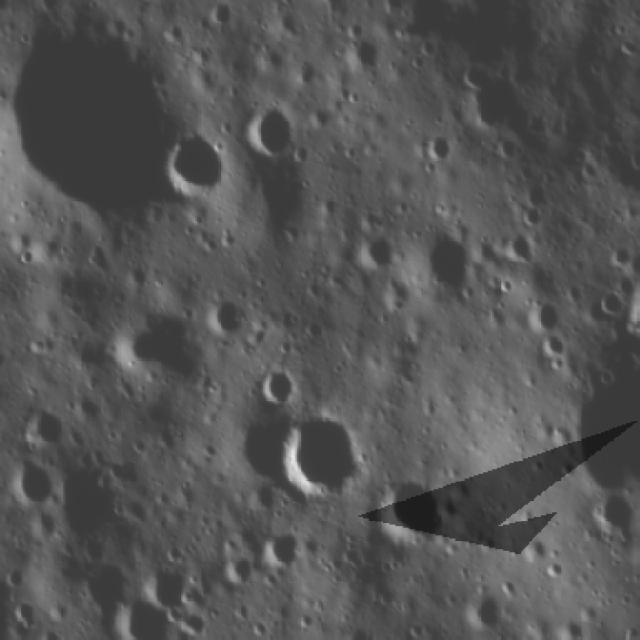crater: (2, 23, 170, 220), (578, 341, 638, 485), (115, 308, 203, 390), (275, 416, 356, 502), (376, 466, 442, 546), (459, 58, 523, 131), (175, 130, 223, 208), (427, 226, 478, 294), (243, 100, 294, 166), (590, 488, 638, 554), (115, 592, 178, 638), (7, 460, 64, 508), (19, 402, 67, 452), (256, 534, 307, 572), (352, 234, 397, 277), (152, 554, 188, 604), (258, 364, 302, 404), (344, 28, 381, 75), (210, 292, 244, 342), (465, 593, 506, 633), (517, 178, 554, 215), (526, 298, 563, 333), (504, 228, 536, 266), (419, 134, 458, 164), (470, 526, 504, 560), (226, 552, 256, 590), (377, 284, 415, 313), (517, 535, 552, 563), (12, 601, 38, 636), (489, 137, 525, 161), (556, 611, 587, 637), (202, 2, 238, 24), (540, 336, 572, 358), (603, 288, 625, 317), (26, 335, 56, 356), (15, 239, 37, 267), (292, 611, 320, 631), (5, 567, 26, 590)
